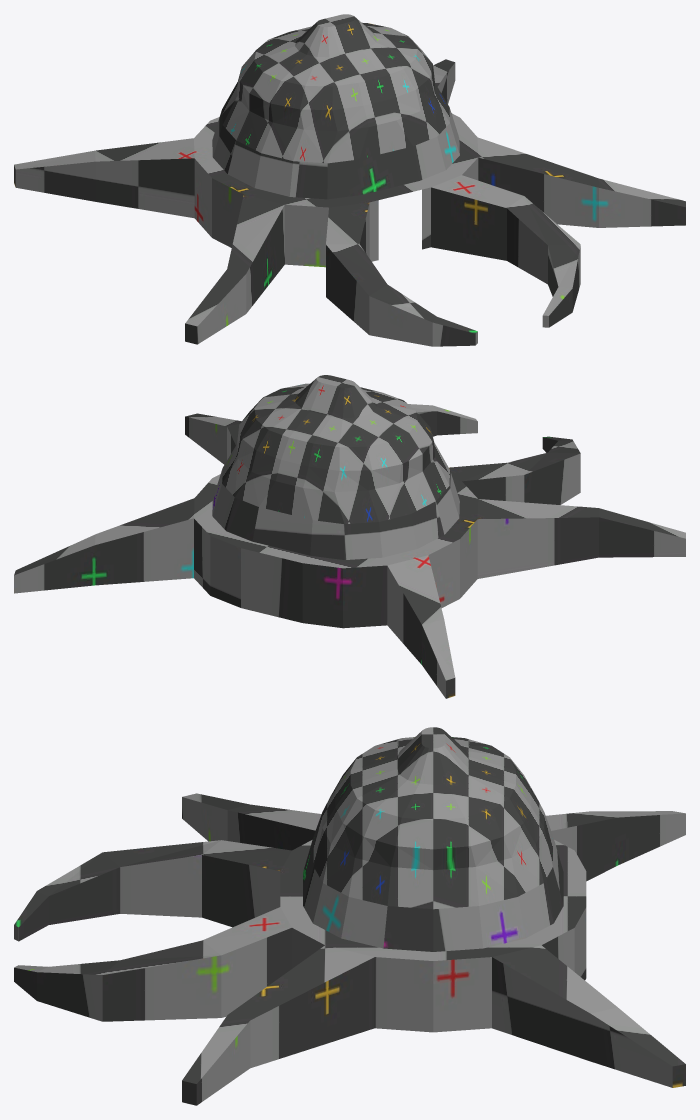
Rendered from temple.obj.
3 views of the same model, one above another, from view 1: azimuth 30°, elevation 25°; view 2: azimuth 150°, elevation 25°; view 3: azimuth 270°, elevation 25° (orthographic). The views are drawn at different scales.
Visible parts, largest first — view 1: Circle; view 2: Circle; view 3: Circle.
Part boxes in pixels (left/top/right/bottom): Circle: left=14, top=14, right=685, bottom=346; Circle: left=14, top=375, right=685, bottom=698; Circle: left=14, top=727, right=685, bottom=1105.
Bounding box in the file's own units: 6.84 × 2.44 × 6.68.
Materials: 1 (1 with a texture image).
